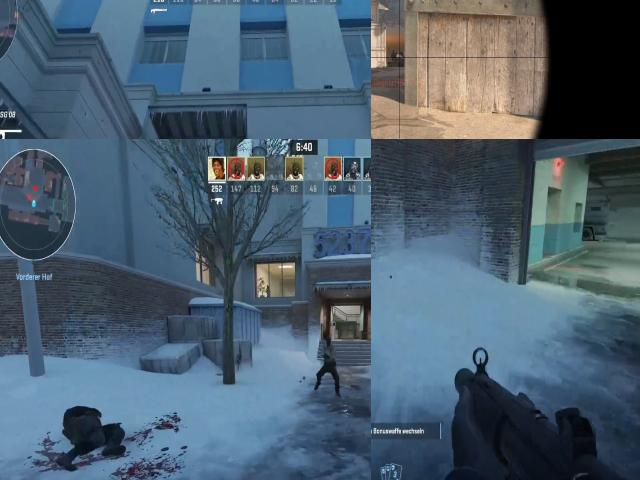CT: (392, 51, 404, 67), (392, 50, 398, 60)
CT-Head: (399, 52, 404, 58), (392, 51, 396, 58)
Dead: (40, 390, 135, 480)
T: (319, 336, 340, 369)
T-Head: (324, 336, 334, 350)
